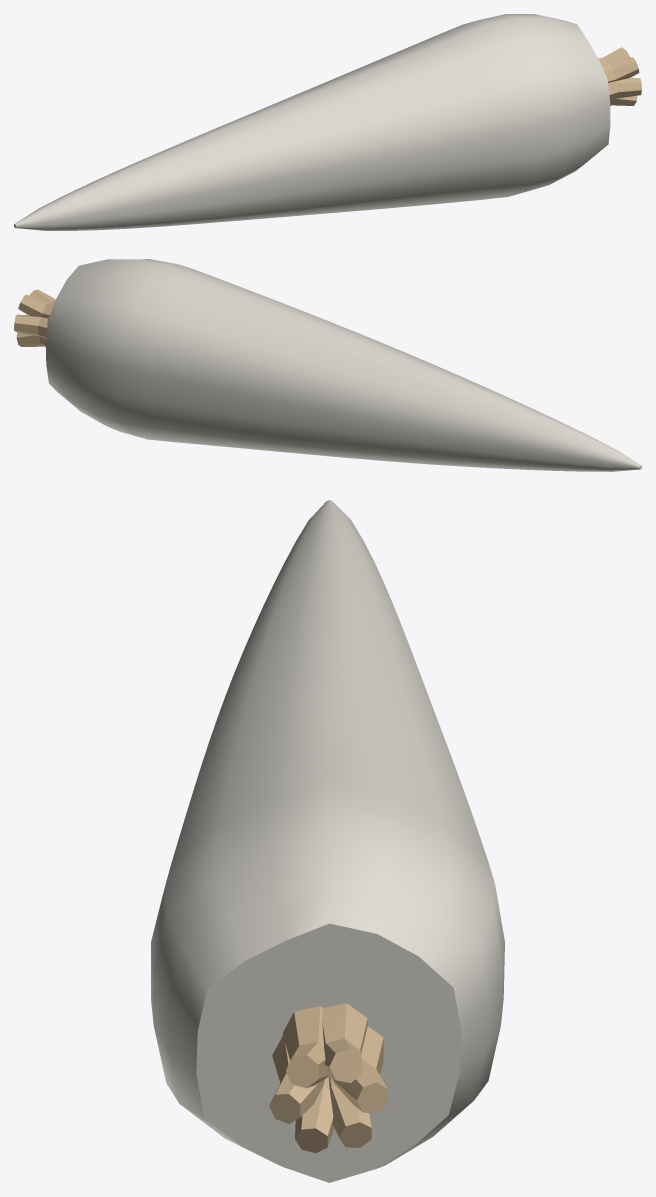
The model's file is fresh-produce-and-groceries-parsnip-dba11b44.glb.
The picture shows the model from 3 angles, top to bottom: view 1: azimuth 30°, elevation 25°; view 2: azimuth 150°, elevation 25°; view 3: azimuth 270°, elevation 25°; orthographic projection. The views are drawn at different scales.
Parts seen in each view (by area): view 1: parsnip; view 2: parsnip; view 3: parsnip.
Boxes of the visible parts, x1=… form: parsnip: x1=14, y1=14, x2=641, y2=230; parsnip: x1=14, y1=259, x2=641, y2=471; parsnip: x1=151, y1=500, x2=504, y2=1182.
Size of the model in its own units: 0.2249 by 0.0601 by 0.0559.
